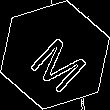M_NE: (20, 21, 90, 89)
